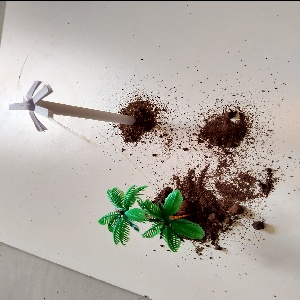plant: (105, 182, 203, 249)
weed: (10, 85, 137, 136)
